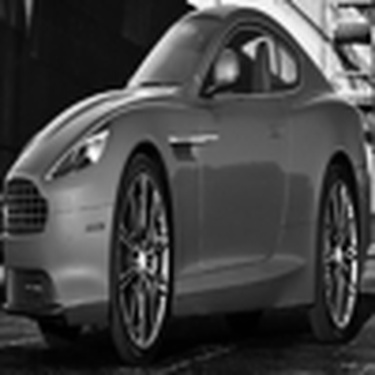car: (1, 1, 370, 374)
